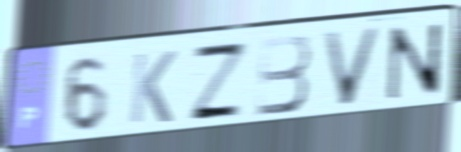6: (63, 54, 111, 136)
B: (254, 32, 314, 119)
K: (127, 48, 179, 127)
N: (386, 21, 445, 103)
V: (319, 25, 387, 110)
Z: (186, 40, 252, 123)
